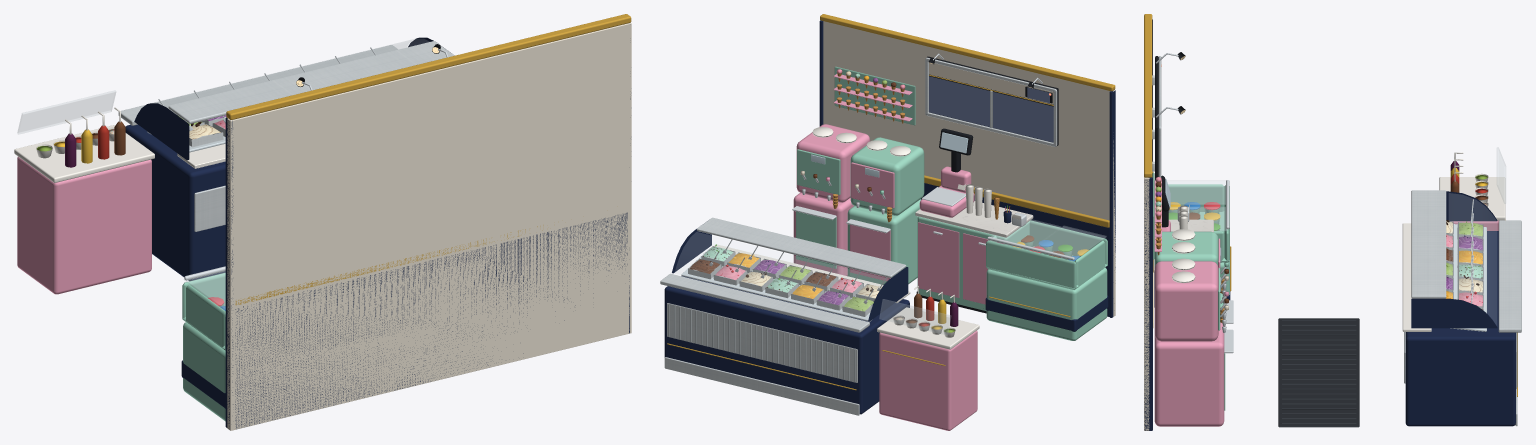
File: sector-sorvetes_T2.fbx
3 views of the same model, side by side, from view 1: azimuth 30°, elevation 25°; view 2: azimuth 150°, elevation 25°; view 3: azimuth 270°, elevation 25° (orthographic). The views are drawn at different scales.
Visible parts, largest first — view 1: Back Wall, Body; view 2: Body, Back Wall, Wall Dressing; view 3: Body, Back Wall, Wall Dressing.
Part boxes in pixels (x1,y1,x2,y2): Back Wall: (225, 14, 631, 430); Body: (14, 37, 454, 421); Body: (660, 124, 1108, 430); Back Wall: (819, 14, 1115, 317); Wall Dressing: (833, 53, 1058, 146); Body: (1153, 147, 1521, 427); Back Wall: (1144, 14, 1153, 430); Wall Dressing: (1152, 52, 1185, 259).
Size of the model in its own units: 3.25 by 2.45 by 3.25.
